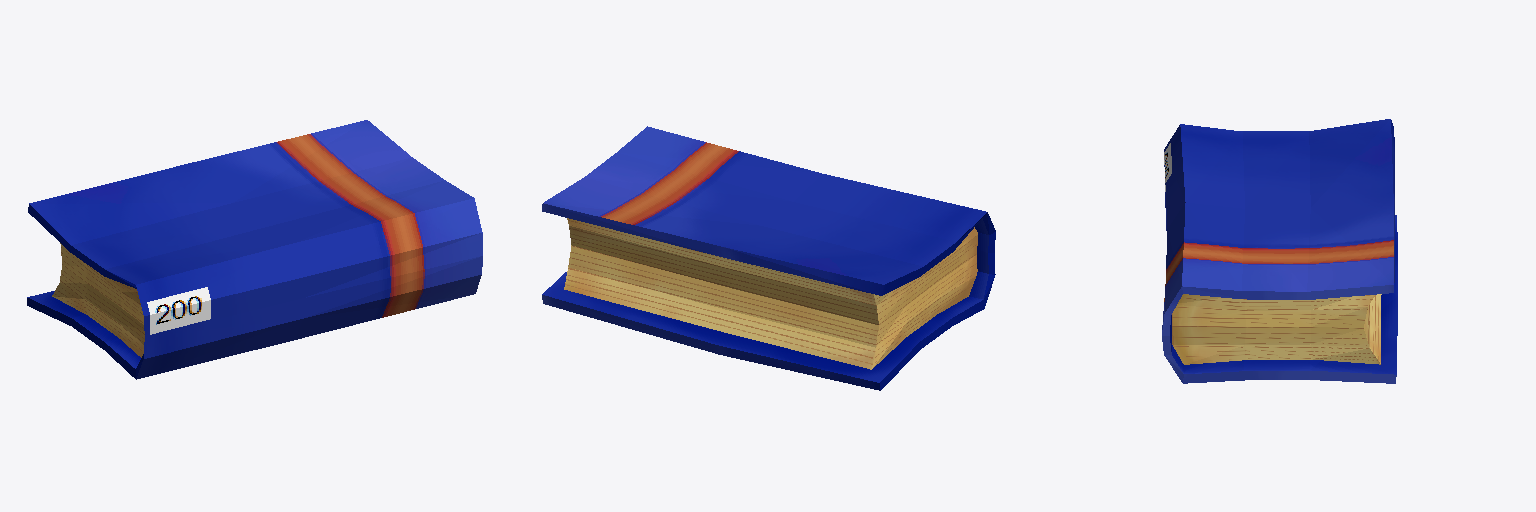
3 renders of one model, left to right at view 1: azimuth 30°, elevation 25°; view 2: azimuth 150°, elevation 25°; view 3: azimuth 270°, elevation 25°, orthographic.
Parts seen in each view (by area): view 1: Cover.040, Pages.008; view 2: Cover.040, Pages.008; view 3: Cover.040, Pages.008.
Part boxes in pixels (left/top/right/bottom): Cover.040: left=27, top=120, right=482, bottom=379; Pages.008: left=52, top=243, right=144, bottom=357; Cover.040: left=542, top=126, right=995, bottom=390; Pages.008: left=564, top=218, right=977, bottom=369; Cover.040: left=1162, top=119, right=1397, bottom=383; Pages.008: left=1172, top=294, right=1381, bottom=364.
Size of the model in its own units: 9.81 by 2.93 by 5.85.
2 materials, 2 textured.